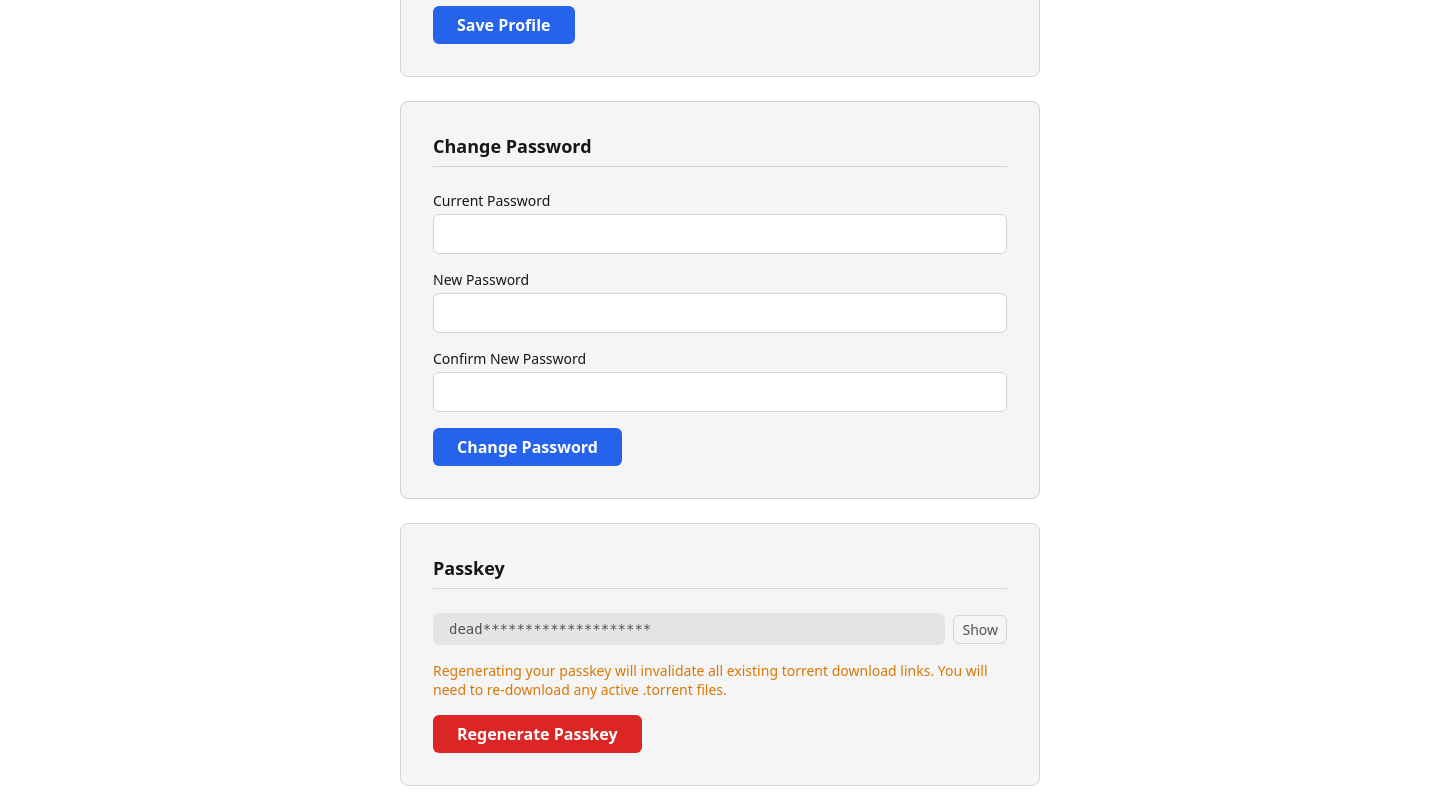
Test case: UserSettingsPage › regenerates passkey on confirm
(page scrolled)
Click the button "Regenerate Passkey".
click(537, 734)  # box x1=433 y1=715 x2=642 y2=753
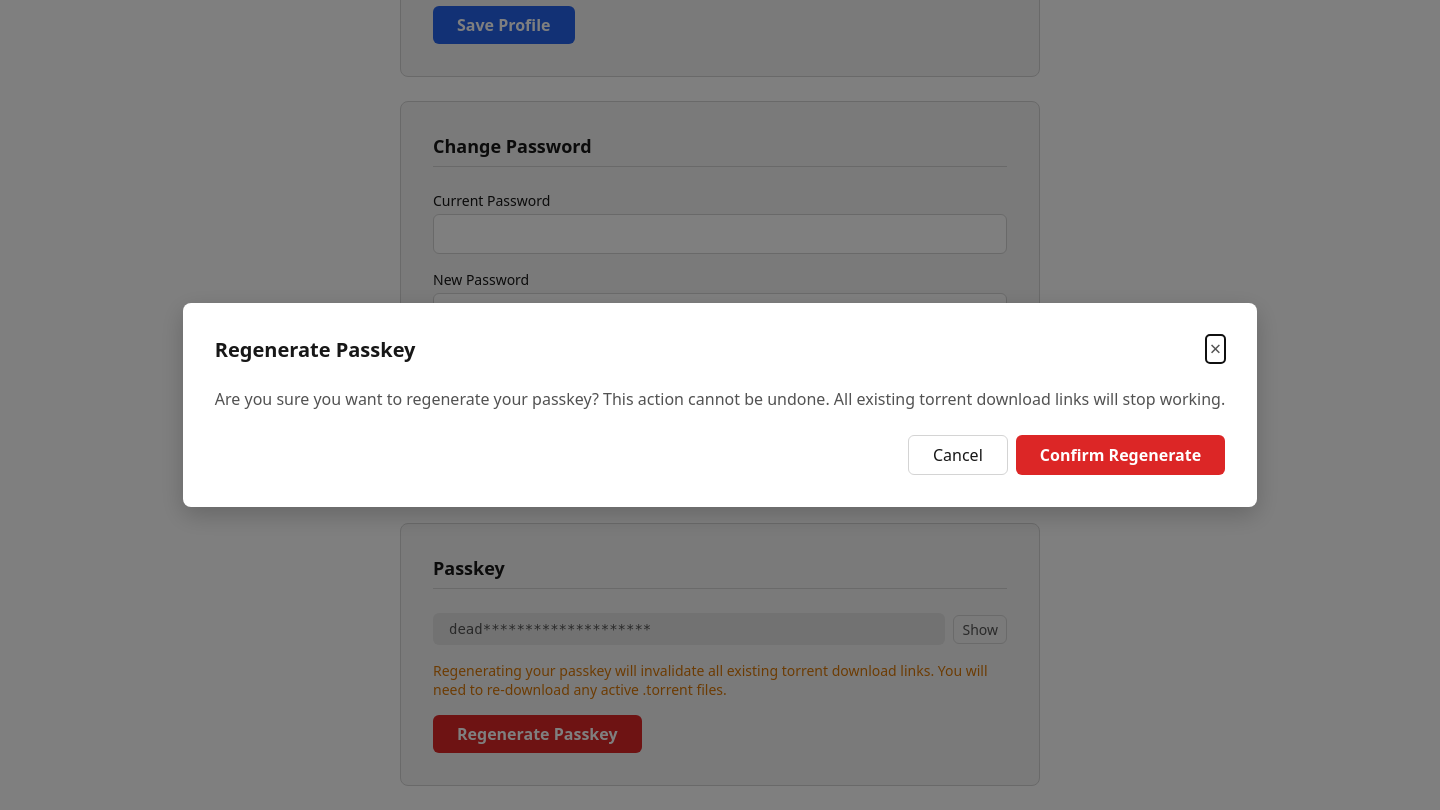
Click the button "Confirm Regenerate".
click(1120, 455)  # box x1=1016 y1=435 x2=1225 y2=475
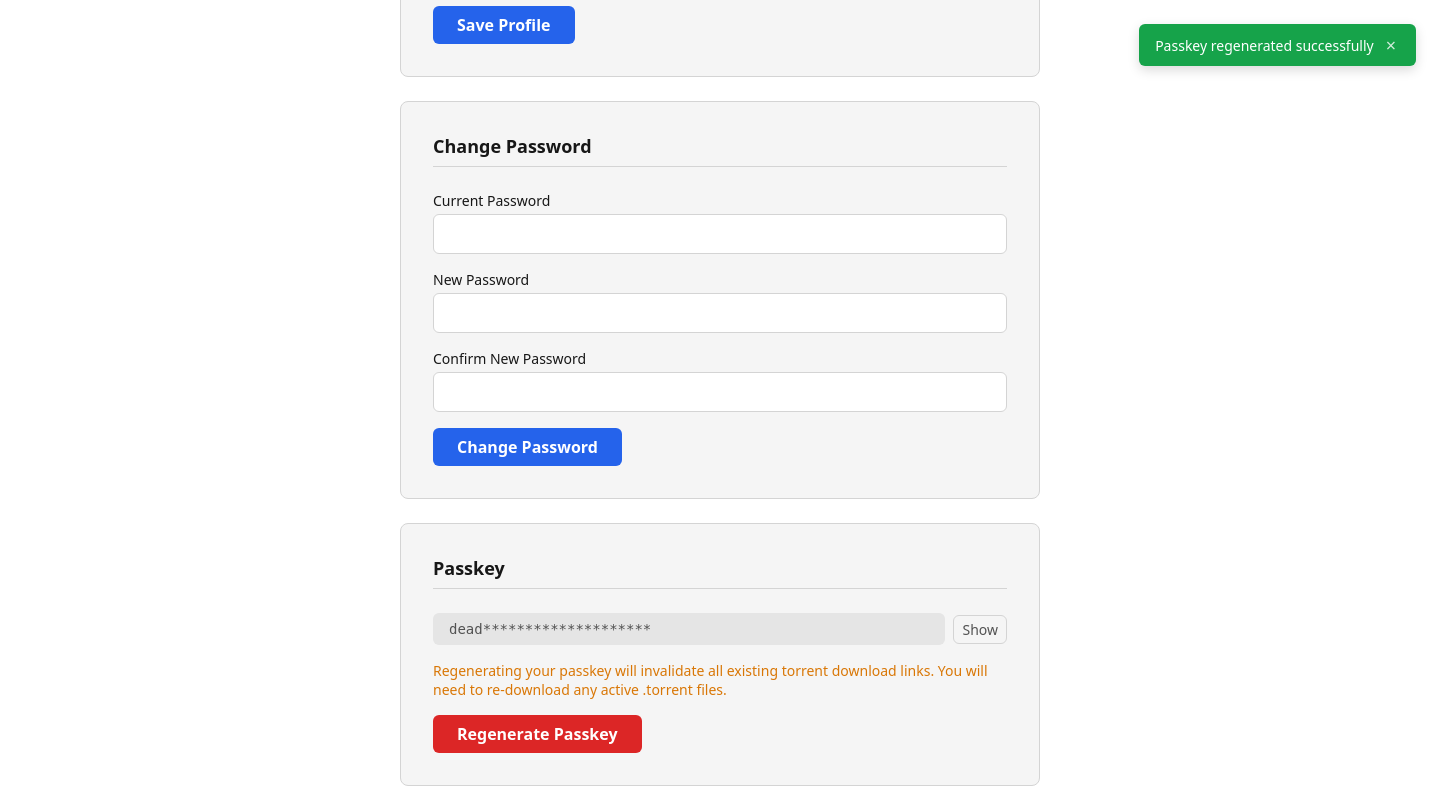
Expected: the text "Passkey regenerated successfully" is shown, x1=1155 y1=36 x2=1374 y2=54
